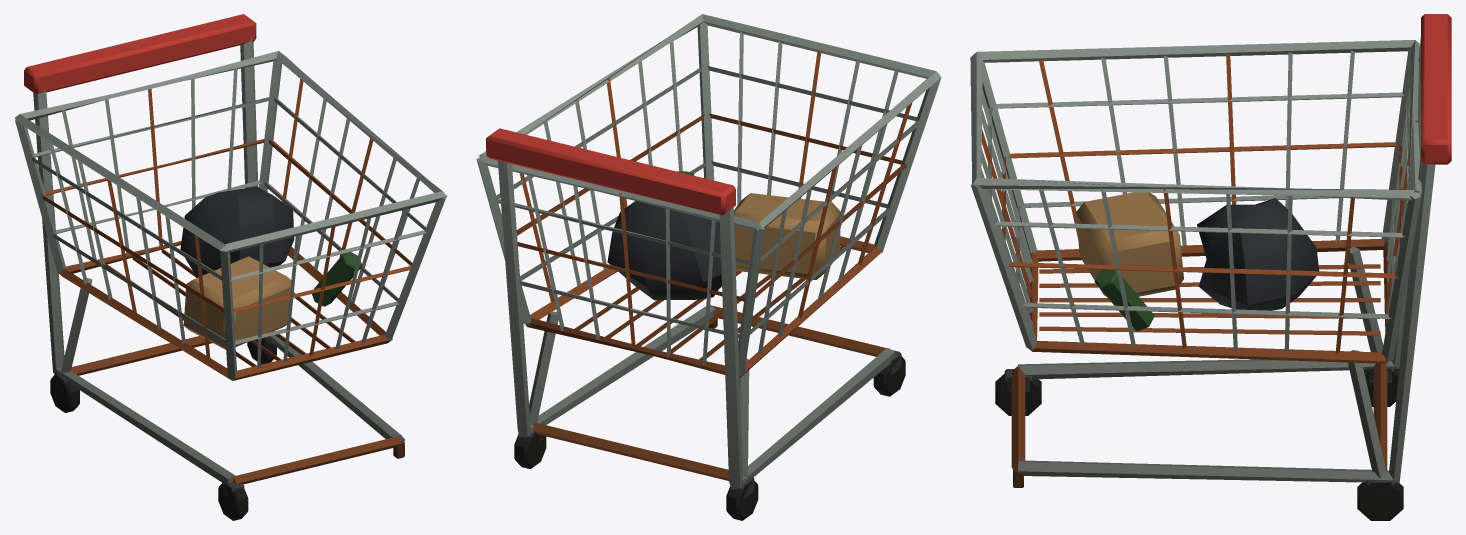
The model's file is 25_caddie.fbx.
The picture shows the model from 3 angles, left to right: view 1: azimuth 30°, elevation 25°; view 2: azimuth 150°, elevation 25°; view 3: azimuth 270°, elevation 25°; orthographic projection. The views are drawn at different scales.
Parts seen in each view (by area): view 1: Caddie; view 2: Caddie; view 3: Caddie.
Part boxes in pixels (<box>): Caddie: <box>14,14,447,520</box>; Caddie: <box>476,14,941,520</box>; Caddie: <box>970,14,1451,520</box>.
Size of the model in its own units: 0.728 by 0.84 by 0.952.
Materials: 1 (1 with a texture image).
